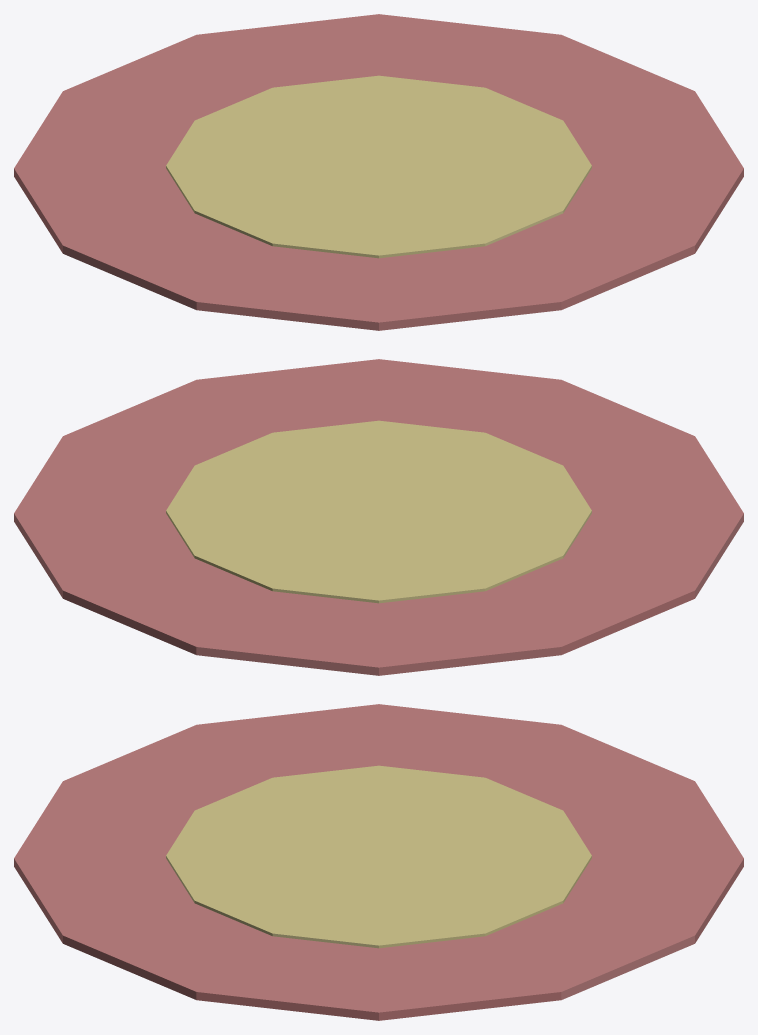
Rendered from furn_rug.glb.
3 renders of one model, top to bottom at view 1: azimuth 30°, elevation 25°; view 2: azimuth 150°, elevation 25°; view 3: azimuth 270°, elevation 25°, orthographic.
Parts seen in each view (by area): view 1: furn_rug2; view 2: furn_rug2; view 3: furn_rug2.
Part boxes in pixels (x1,y1,x2,y2): furn_rug2: (14, 14, 743, 330); furn_rug2: (14, 359, 743, 675); furn_rug2: (14, 704, 743, 1020).
Bounding box in the file's own units: 2.4 × 0.04 × 2.4.
